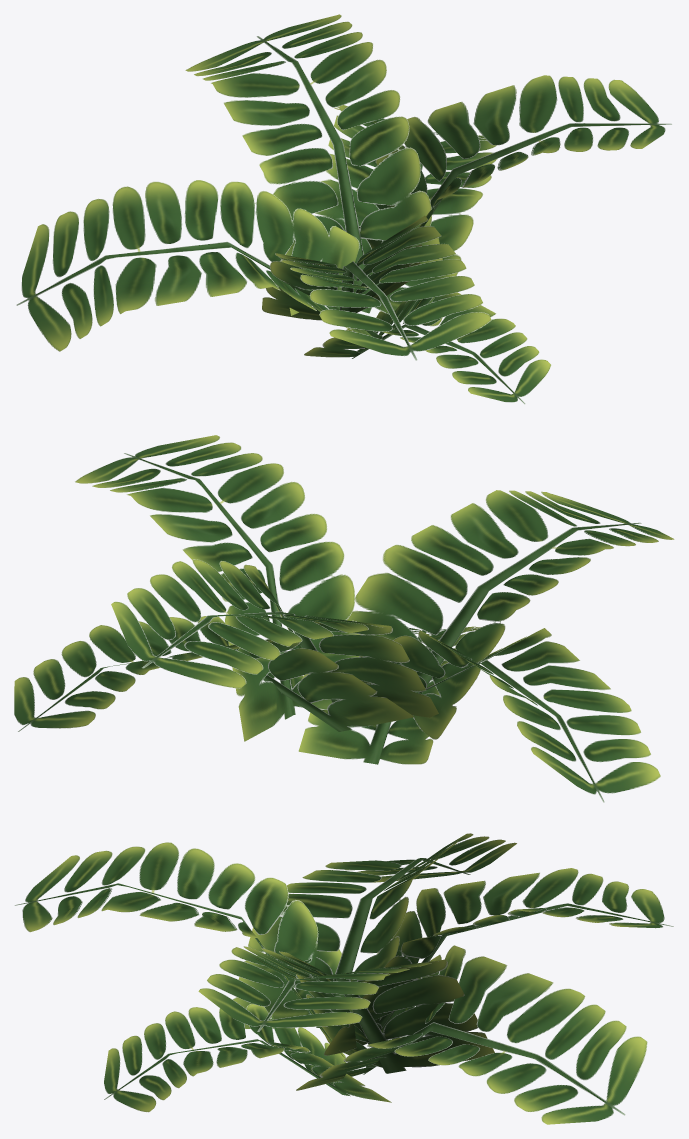
File: fern3.fbx
3 renders of one model, top to bottom at view 1: azimuth 30°, elevation 25°; view 2: azimuth 150°, elevation 25°; view 3: azimuth 270°, elevation 25°, orthographic. The views are drawn at different scales.
Visible parts, largest first — view 1: Mesh Object; view 2: Mesh Object; view 3: Mesh Object.
Part boxes in pixels (left/top/right/bottom): Mesh Object: left=16, top=14, right=671, bottom=404; Mesh Object: left=14, top=435, right=674, bottom=802; Mesh Object: left=14, top=833, right=673, bottom=1124.
Bounding box in the file's own units: 1.67 × 0.645 × 1.62.
